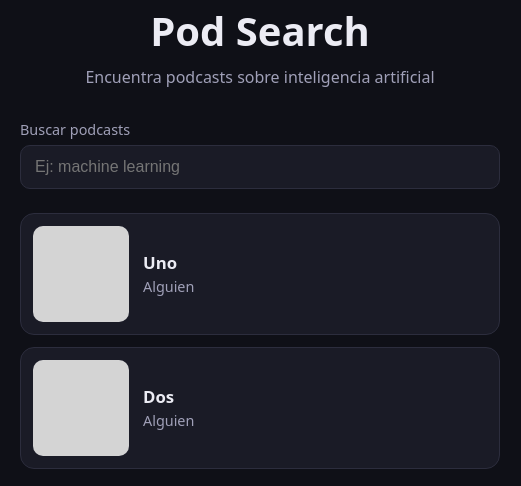
Test: momento 3: sin resultados › avisa con el término buscado y ofrece una salida que de verdad vuelve a la lista
Type "zzz" into the search field labelled "Buscar podcasts" at (260, 167), box top-left (20, 145), bottom-right (500, 189)
Then press Enter
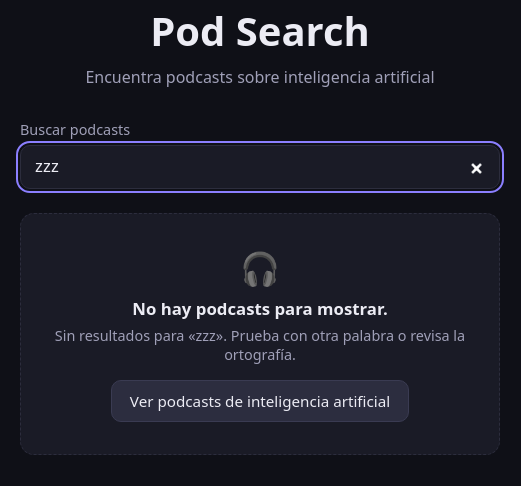
Expected: the text "No hay podcasts para mostrar." is shown, top-left (132, 297), bottom-right (388, 320)
Expected: the text "«zzz»" is shown, top-left (41, 326), bottom-right (479, 364)
Click the button "Ver podcasts de inteligencia artificial" at (260, 401), box top-left (111, 380), bottom-right (409, 422)
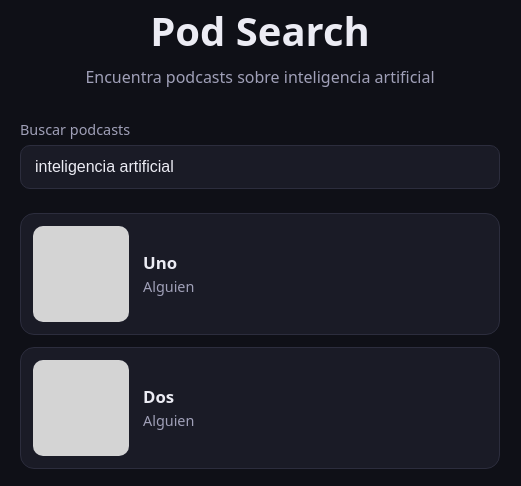
Expected: the search field labelled "Buscar podcasts" holds "inteligencia artificial", top-left (20, 145), bottom-right (500, 189)
Expected: the number of list items is 2, top-left (20, 213), bottom-right (500, 335); top-left (20, 347), bottom-right (500, 469)
